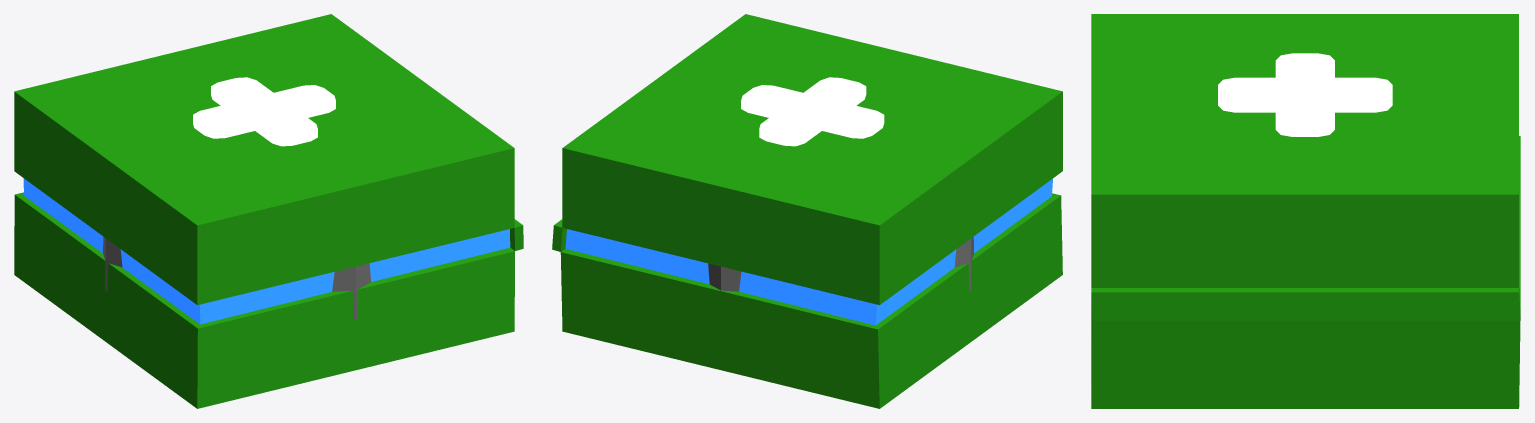
The model's file is Set.fbx.
The picture shows the model from 3 angles, left to right: view 1: azimuth 30°, elevation 25°; view 2: azimuth 150°, elevation 25°; view 3: azimuth 270°, elevation 25°; orthographic projection. The views are drawn at different scales.
Visible parts, largest first — view 1: MedKit, Jump Pad; view 2: MedKit, Jump Pad; view 3: MedKit.
Boxes of the visible parts, left/top/right/bottom form: MedKit: left=14, top=14, right=523, bottom=408; Jump Pad: left=103, top=236, right=370, bottom=319; MedKit: left=552, top=14, right=1062, bottom=408; Jump Pad: left=708, top=237, right=973, bottom=291; MedKit: left=1091, top=14, right=1520, bottom=408.
Size of the model in its own units: 201 by 118 by 206.
